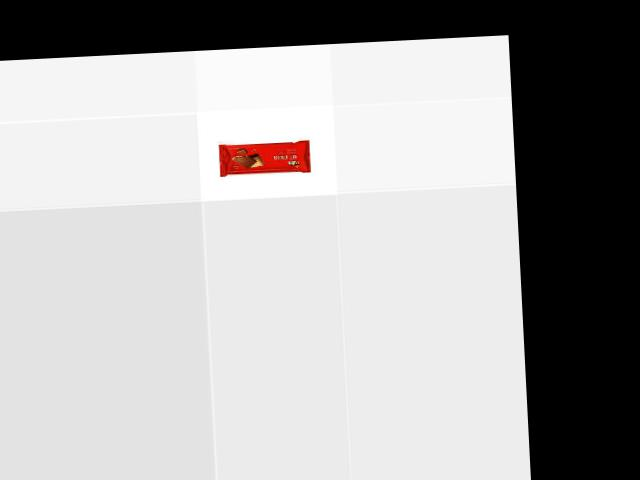chocolate: (219, 138, 314, 176)
